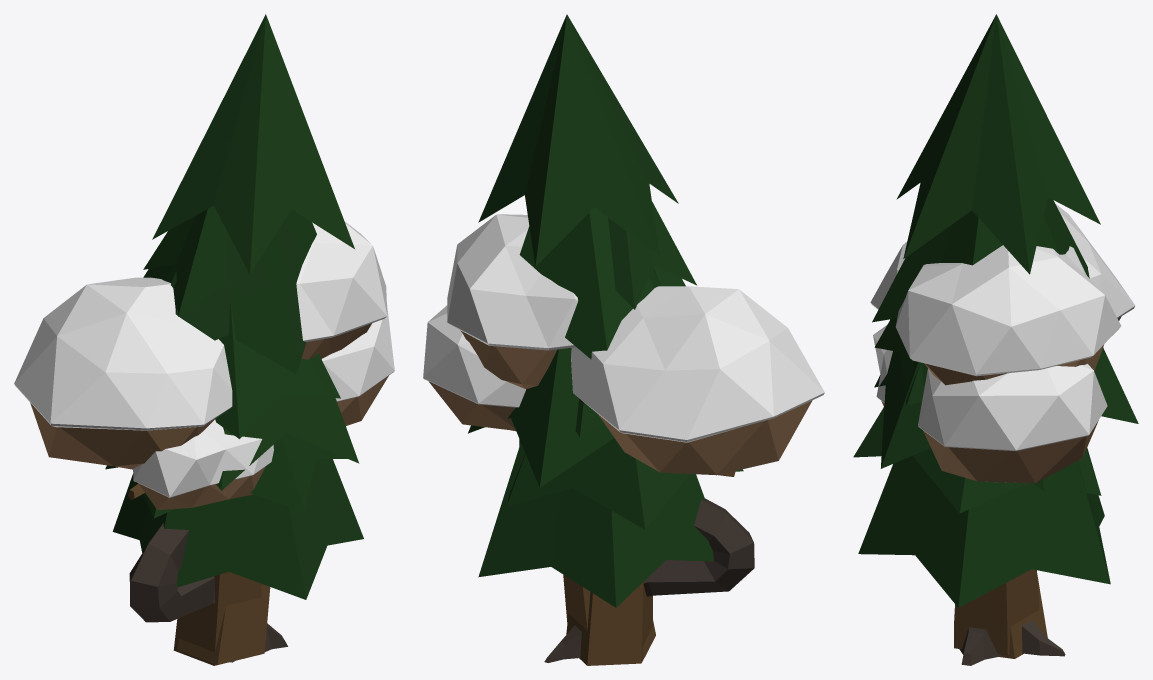
File: Bäume.fbx
3 renders of one model, left to right at view 1: azimuth 30°, elevation 25°; view 2: azimuth 150°, elevation 25°; view 3: azimuth 270°, elevation 25°, orthographic. The views are drawn at different scales.
Parts seen in each view (by area): view 1: Tanne-3, Laub-1, Laub-2, Tanne-2, Tanne-1; view 2: Tanne-3, Laub-1, Laub-2, Tanne-1, Tanne-2; view 3: Tanne-3, Laub-1, Laub-2, Tanne-1, Tanne-2.
Part boxes in pixels (x1,y1,x2,y2): Tanne-3: (112, 14, 363, 664); Laub-1: (14, 221, 387, 651); Laub-2: (129, 305, 394, 662); Tanne-2: (128, 206, 340, 650); Tanne-1: (105, 300, 347, 665); Tanne-3: (468, 14, 713, 657); Laub-1: (447, 214, 824, 662); Laub-2: (423, 305, 754, 596); Tanne-1: (507, 438, 743, 665); Tanne-2: (566, 201, 735, 665); Tanne-3: (858, 14, 1138, 655); Laub-1: (870, 204, 1135, 665); Laub-2: (873, 325, 1107, 483); Tanne-1: (853, 318, 1101, 658); Tanne-2: (874, 324, 1022, 658).
Bounding box in the file's own units: 908 × 1485 × 593.
